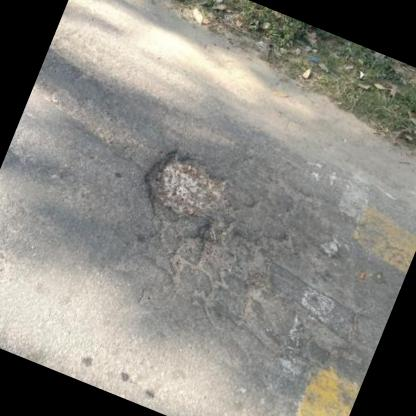pothole: (131, 136, 244, 233), (184, 216, 286, 296)
